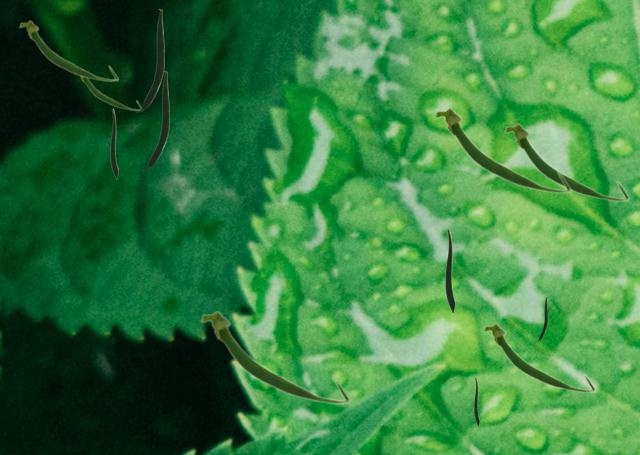french_bean: (199, 310, 350, 404), (433, 107, 571, 193), (503, 123, 629, 201), (482, 322, 595, 392), (18, 19, 118, 81), (137, 9, 163, 111), (143, 71, 168, 169), (80, 77, 141, 110), (445, 228, 454, 312), (110, 108, 117, 178), (537, 297, 546, 340), (474, 377, 478, 425)
